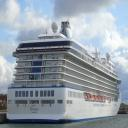cruises: (6, 19, 125, 122)
